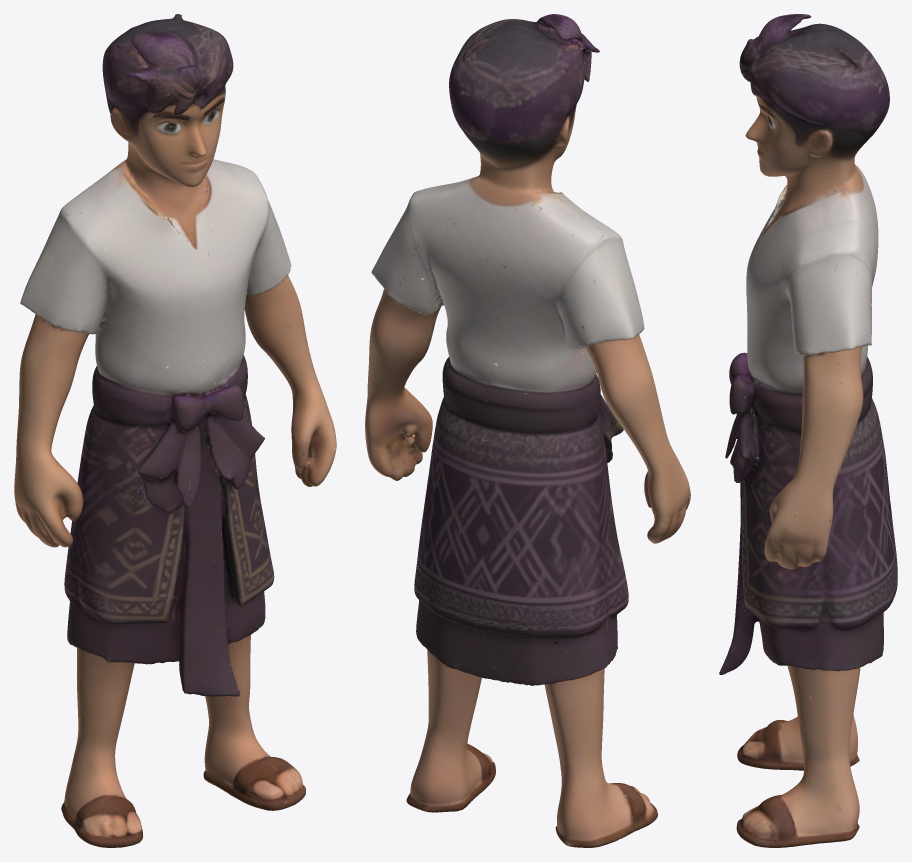
File: CharacterModel.fbx
The picture shows the model from 3 angles, left to right: view 1: azimuth 30°, elevation 25°; view 2: azimuth 150°, elevation 25°; view 3: azimuth 270°, elevation 25°; orthographic projection. The views are drawn at different scales.
Visible parts, largest first — view 1: Mesh_0; view 2: Mesh_0; view 3: Mesh_0.
Part boxes in pixels (x1,y1,x2,y2): Mesh_0: [14, 14, 336, 847]; Mesh_0: [365, 14, 690, 847]; Mesh_0: [719, 14, 897, 847].
Size of the model in its own units: 81.4 by 200 by 42.09.
1 material, 1 textured.
